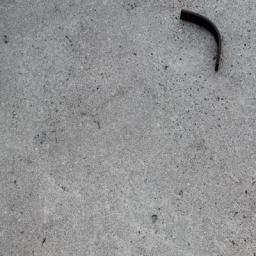FOD: (178, 9, 228, 74)
